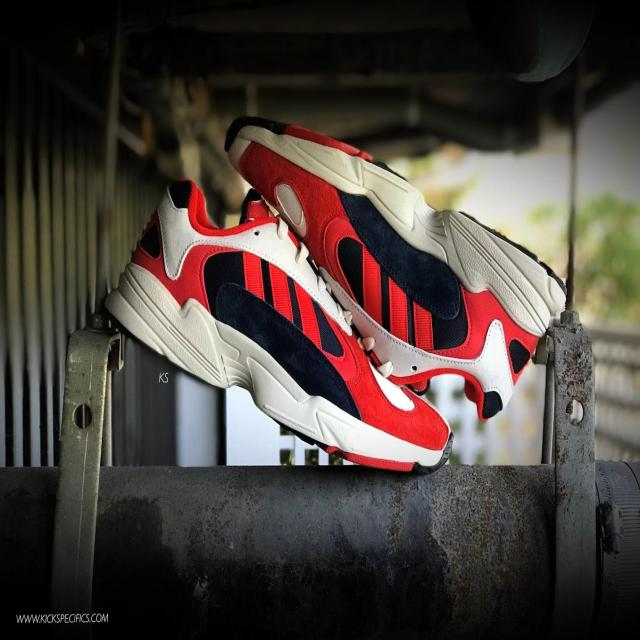shoe: (57, 144, 554, 601), (253, 134, 565, 278)
